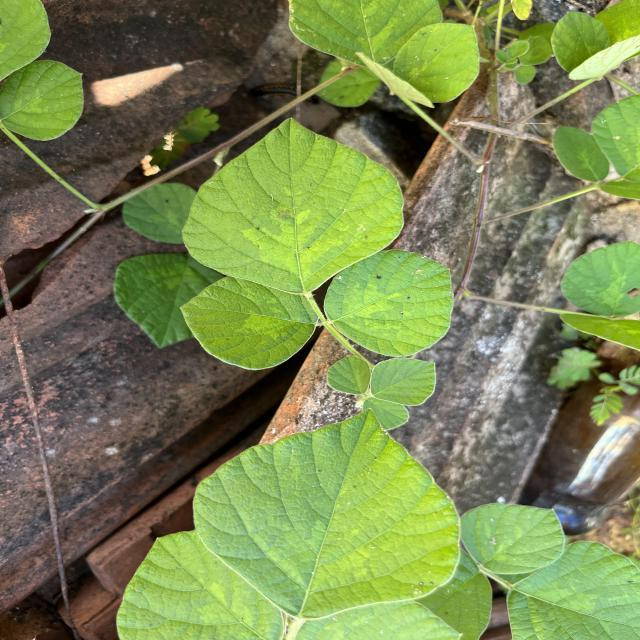Pseudarthria viscida: (176, 115, 457, 373), (324, 355, 436, 431)
